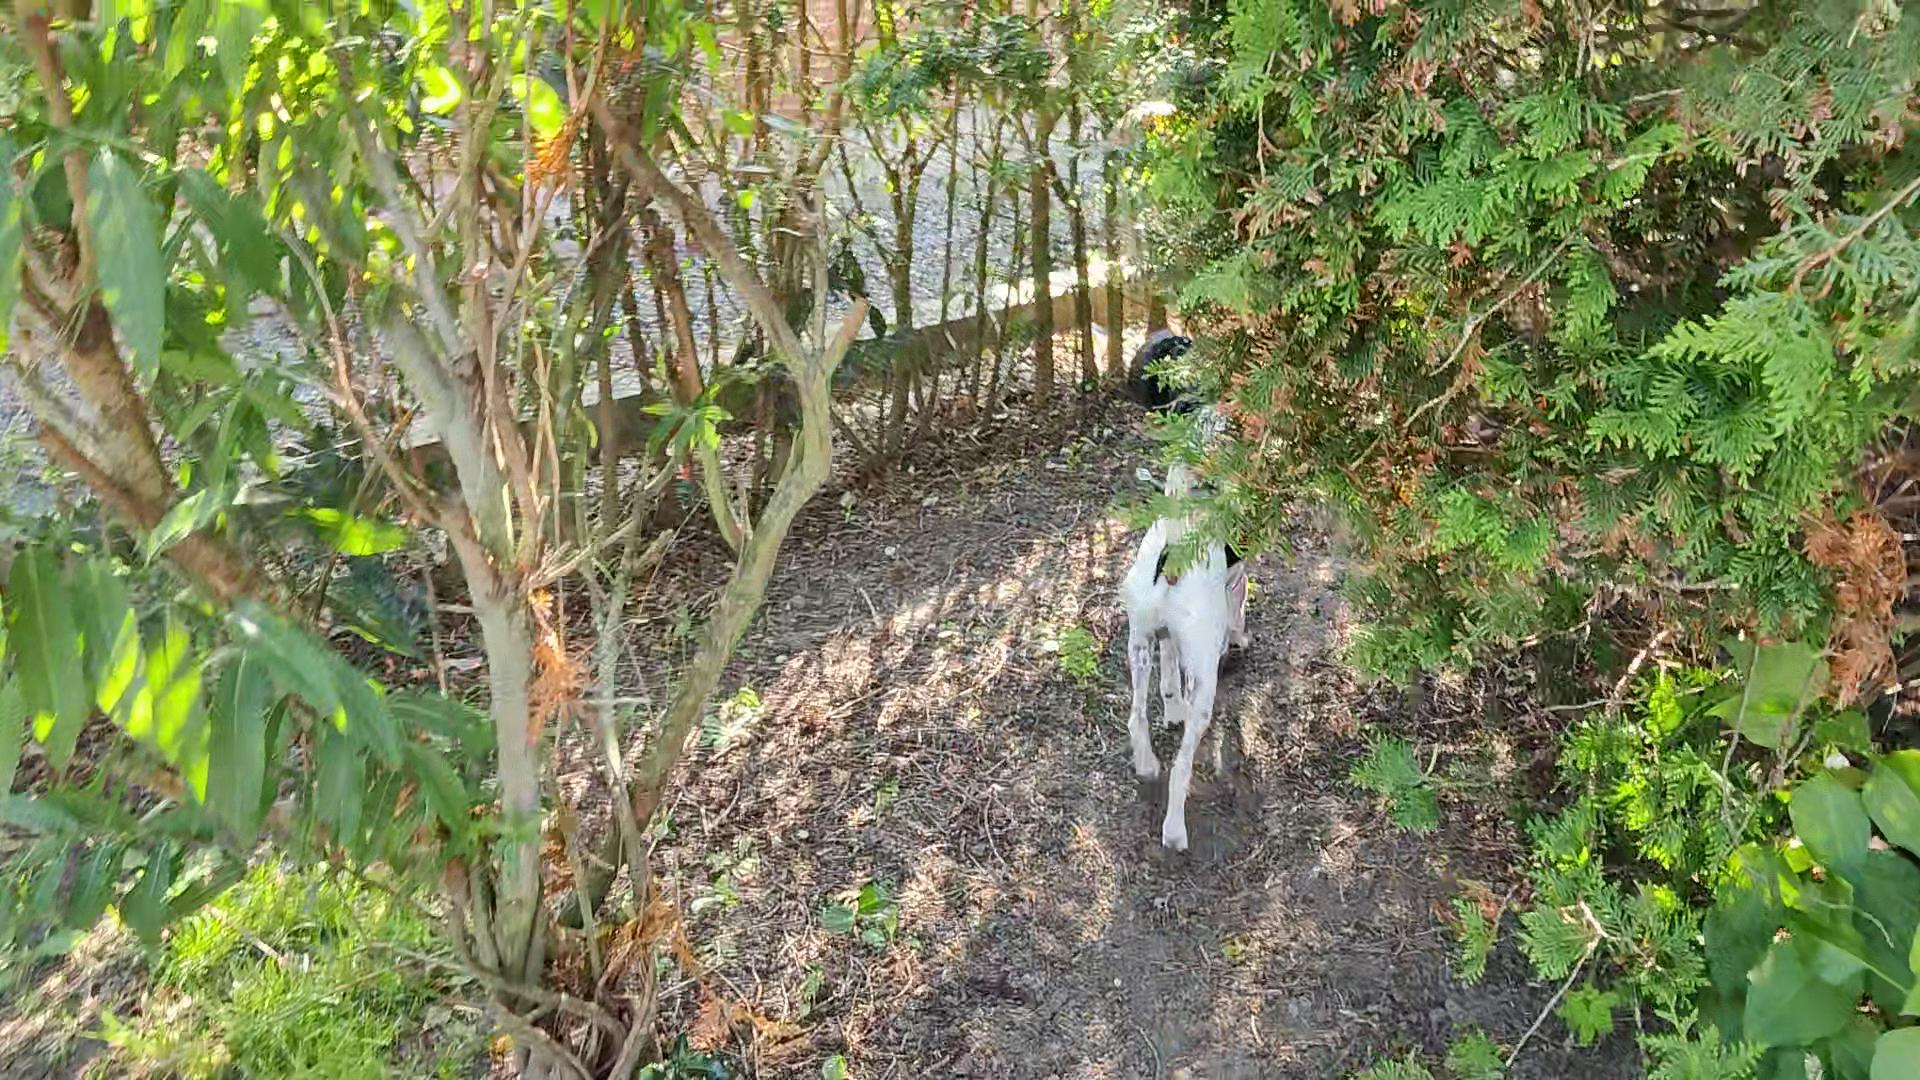Dog: (1084, 371, 1290, 866)
